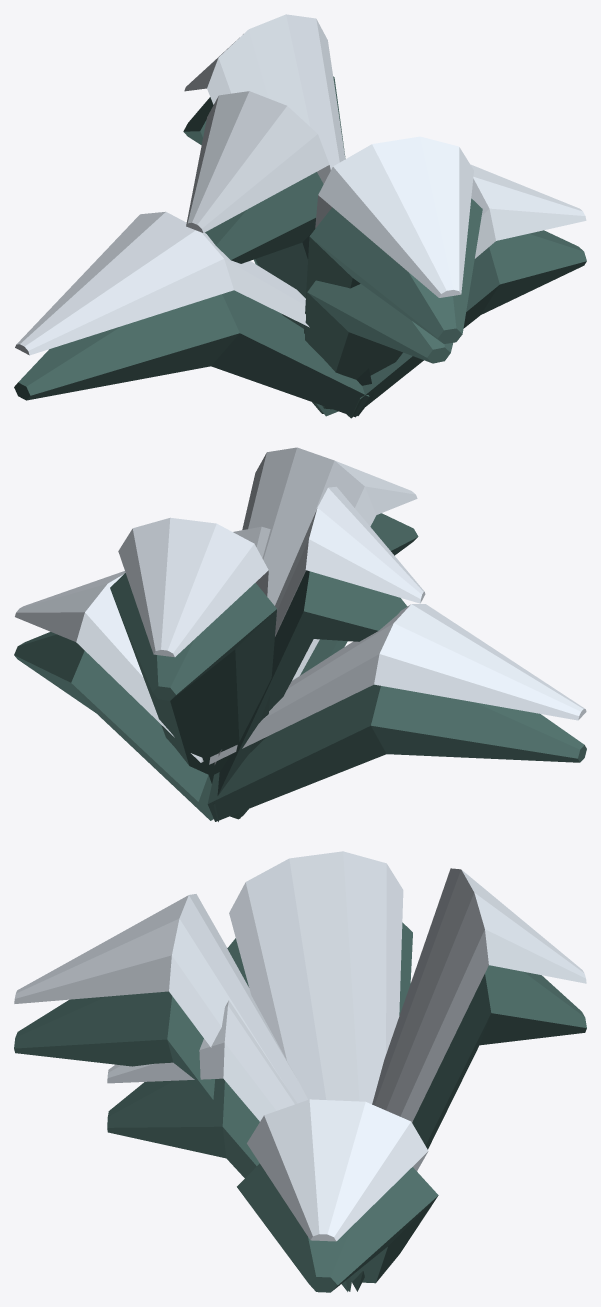
File: Shrub0.fbx
The picture shows the model from 3 angles, top to bottom: view 1: azimuth 30°, elevation 25°; view 2: azimuth 150°, elevation 25°; view 3: azimuth 270°, elevation 25°; orthographic projection. The views are drawn at different scales.
Visible parts, largest first — view 1: Shrub_LOD0; view 2: Shrub_LOD0; view 3: Shrub_LOD0.
Boxes of the visible parts, x1=… form: Shrub_LOD0: x1=14, y1=14, x2=586, y2=418; Shrub_LOD0: x1=14, y1=447, x2=586, y2=821; Shrub_LOD0: x1=14, y1=851, x2=586, y2=1292.
Size of what is drawn, in the model's own units: 1.52 by 0.8893 by 1.19.
